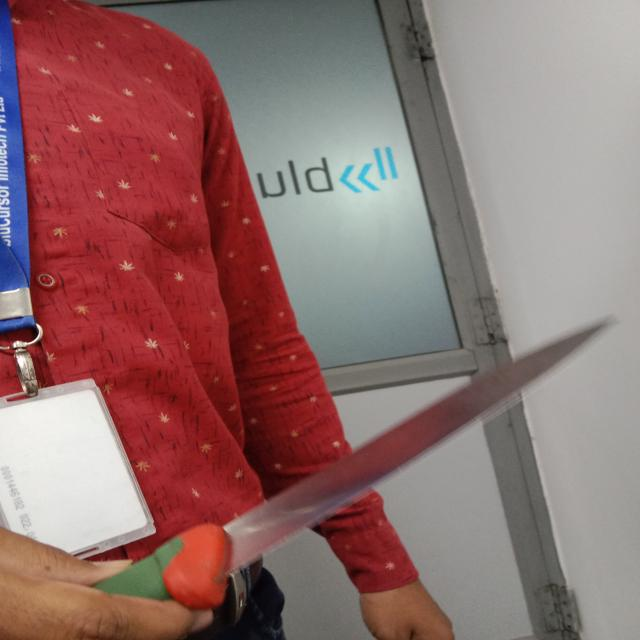Knife: (94, 324, 603, 611)
